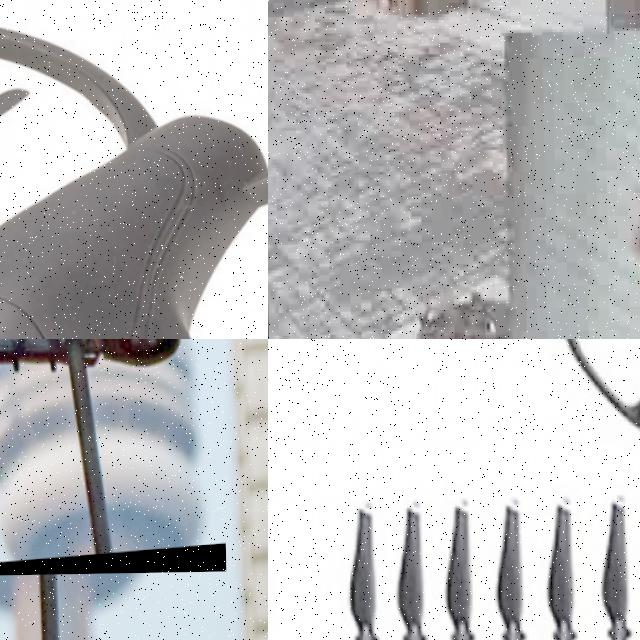drone: (0, 0, 268, 339), (0, 339, 225, 579)
